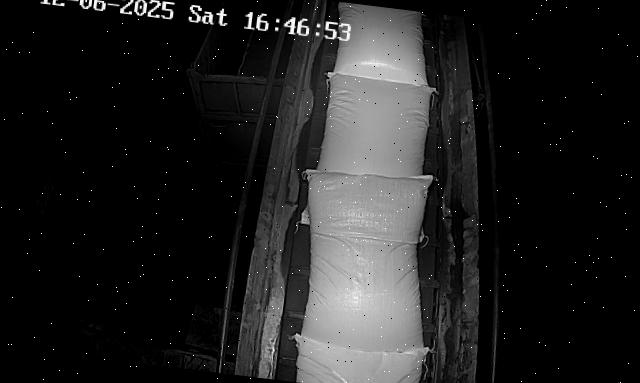bag: (284, 158, 447, 356), (300, 72, 443, 242), (330, 1, 436, 86), (289, 330, 427, 383)
